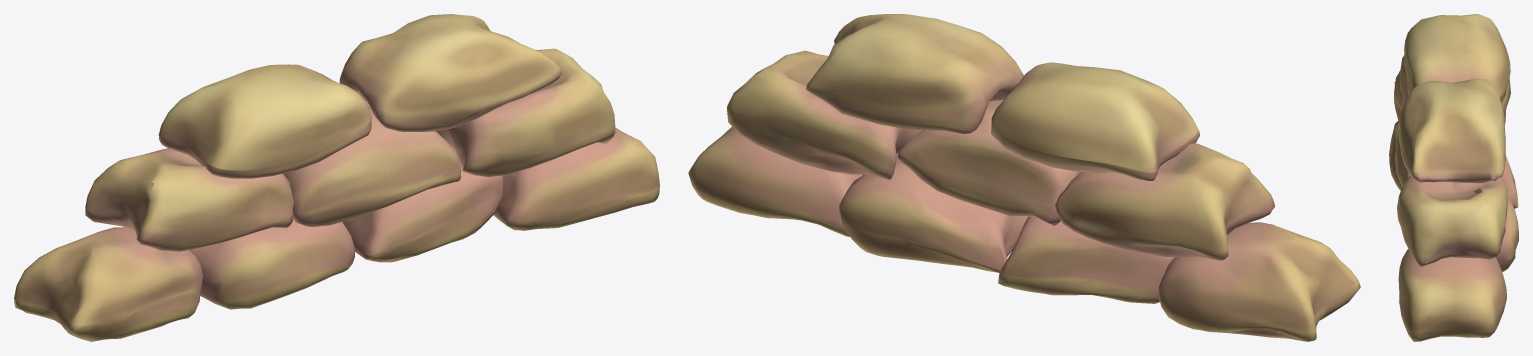
The model's file is Sacks.fbx.
3 views of the same model, side by side, from view 1: azimuth 30°, elevation 25°; view 2: azimuth 150°, elevation 25°; view 3: azimuth 270°, elevation 25° (orthographic). The views are drawn at different scales.
Parts seen in each view (by area): view 1: sacks; view 2: sacks; view 3: sacks.
Boxes of the visible parts, box(x1,y1,x2,y2) form: sacks: box(14, 14, 659, 341); sacks: box(688, 14, 1360, 341); sacks: box(1389, 14, 1518, 341).
Bounding box in the file's own units: 904 × 293 × 198.
